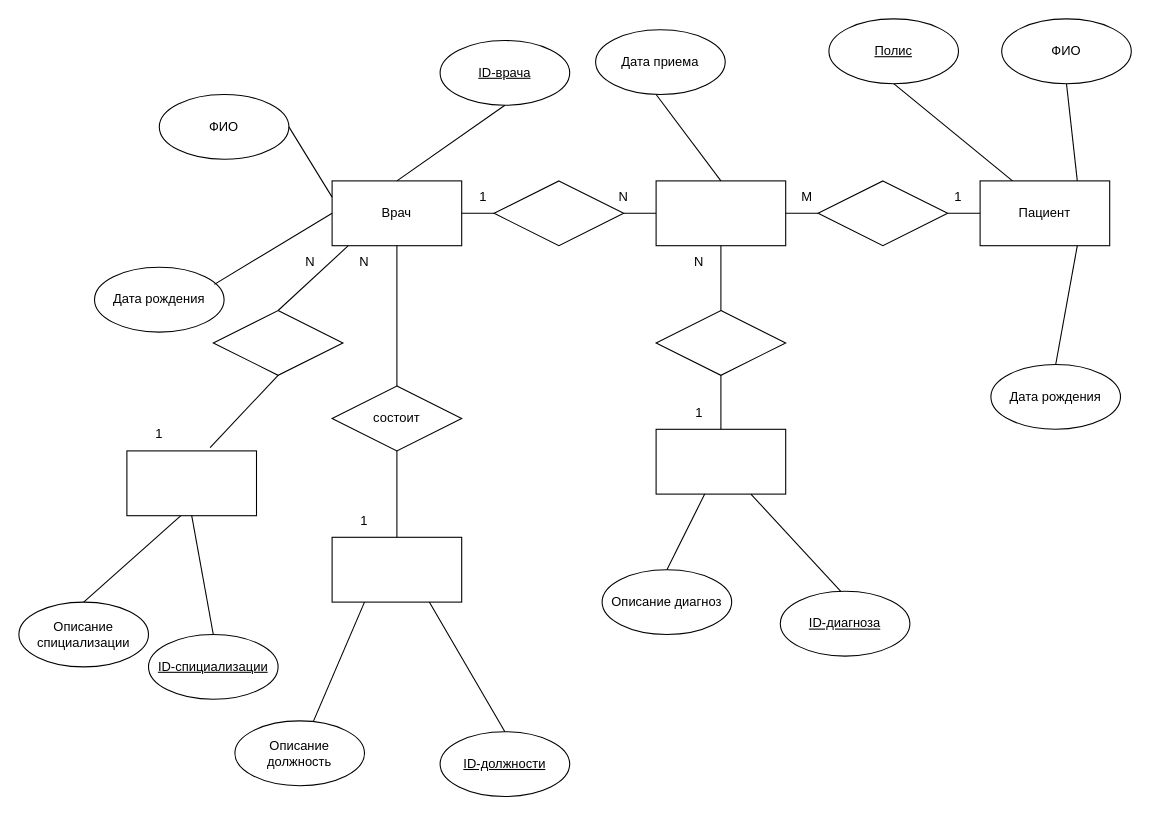
The diagram is 1150 pixels wide and 815 high, and some of its shapes have lost their labels. Here are the shapes that lost their labels. From the top down, the box of each, then its label:
(493, 180, 624, 246): проводит
(655, 180, 786, 246): Прием
(817, 180, 948, 246): посещает
(212, 309, 343, 375): имеет
(655, 309, 786, 375): включает
(655, 428, 786, 494): Диагноз
(126, 450, 256, 516): Специализация
(331, 536, 462, 602): Должность
